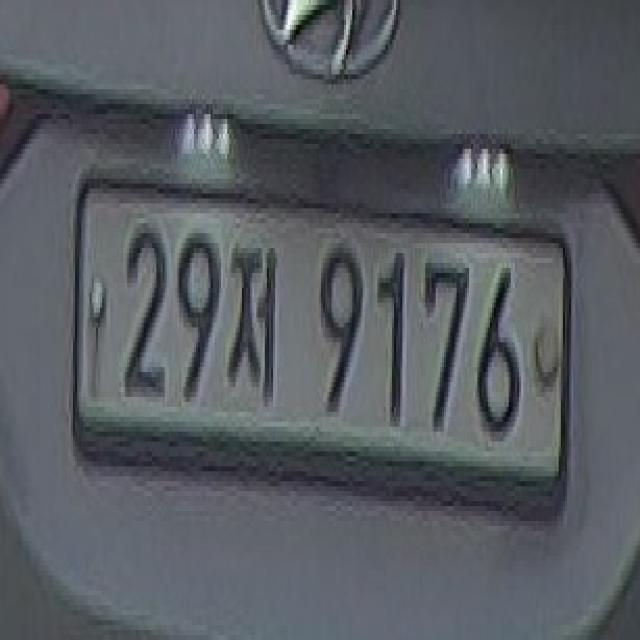plat: (71, 177, 573, 510)
